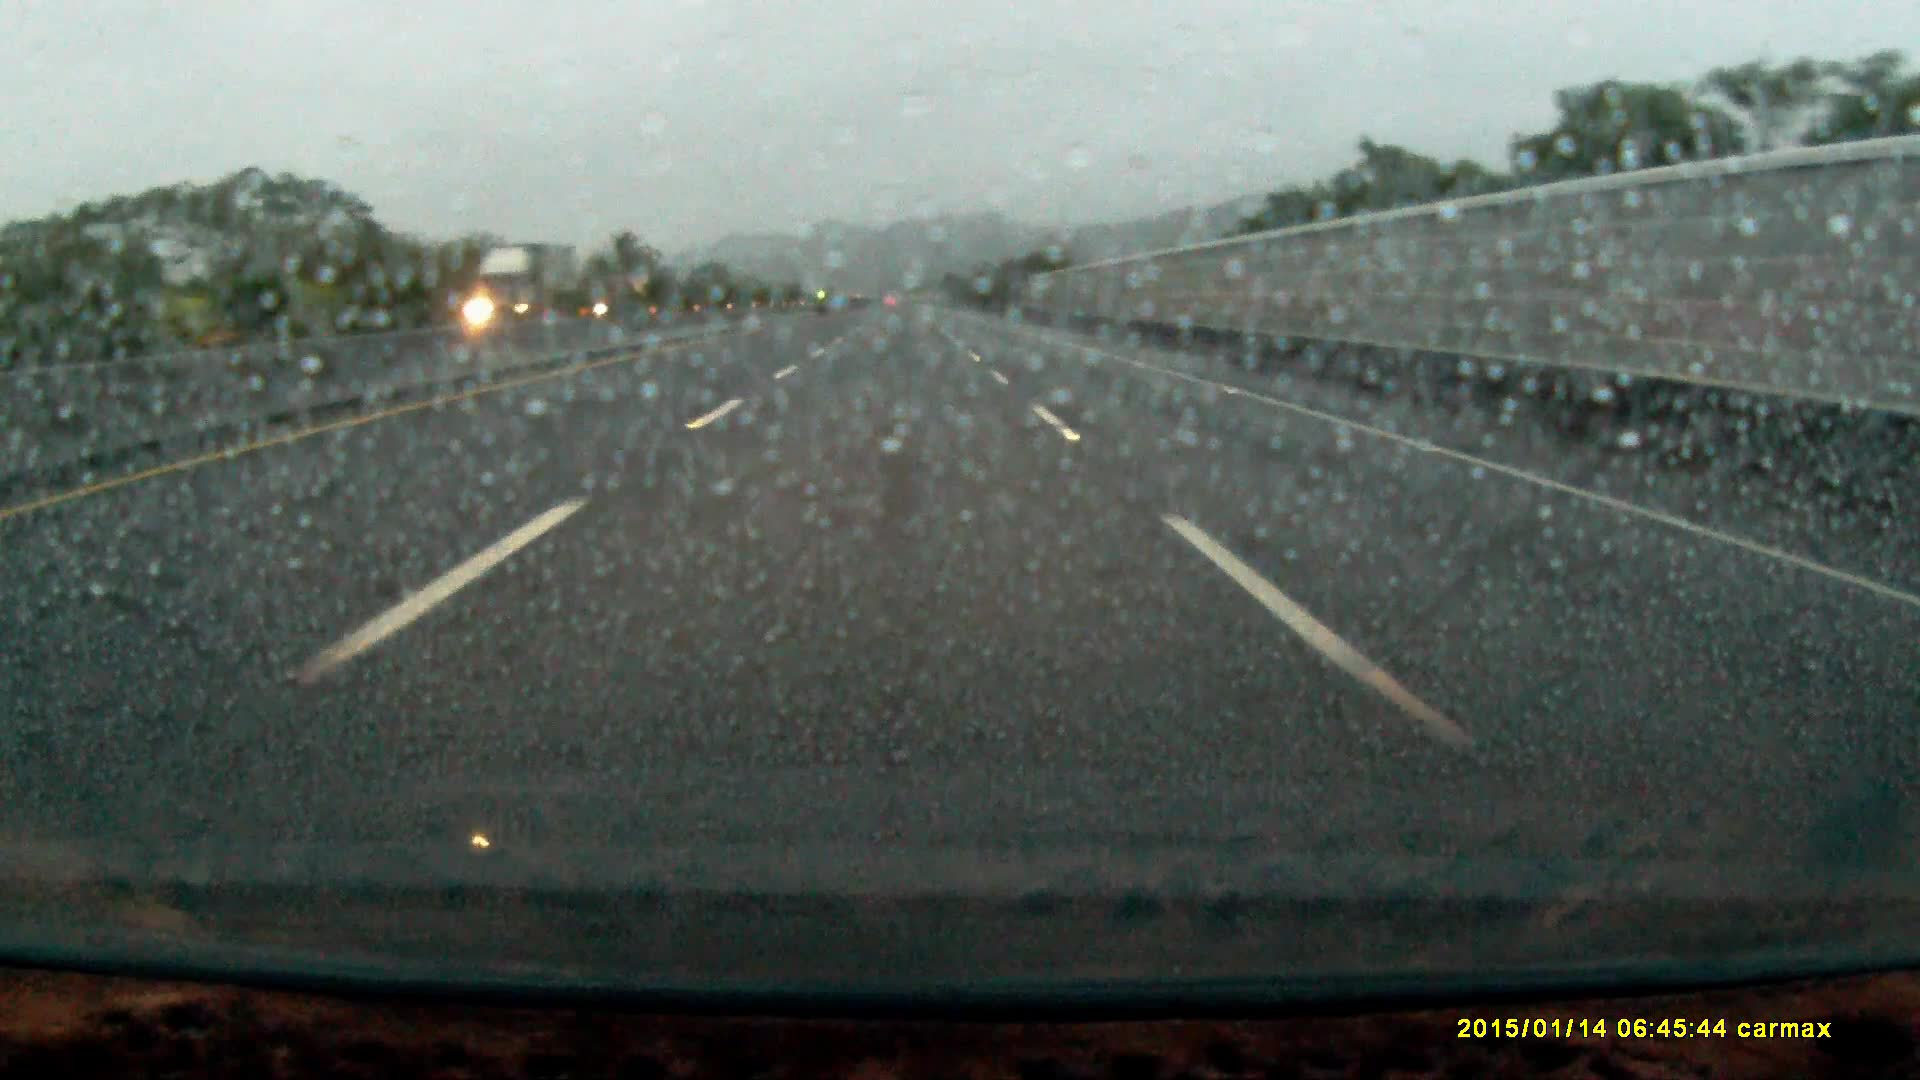vehicle: (465, 243, 583, 318)
